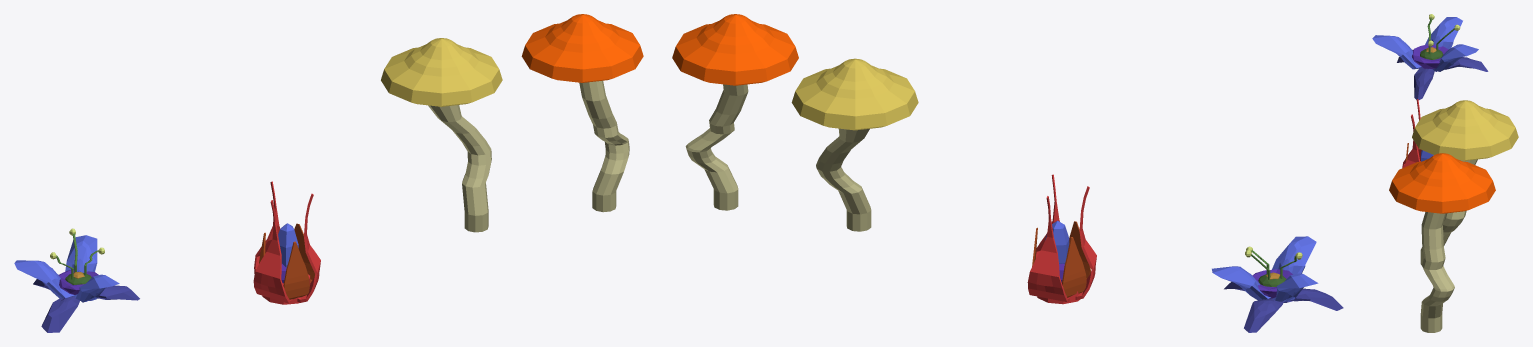
The model's file is flowers.fbx.
The picture shows the model from 3 angles, left to right: view 1: azimuth 30°, elevation 25°; view 2: azimuth 150°, elevation 25°; view 3: azimuth 270°, elevation 25°; orthographic projection. The views are drawn at different scales.
Parts seen in each view (by area): view 1: Mushroom, Mushroom 1, Flower 1, Flower 2; view 2: Mushroom, Mushroom 1, Flower 1, Flower 2; view 3: Mushroom, Mushroom 1, Flower 1, Flower 2.
Part boxes in pixels (bbox=[...]): Mushroom: bbox=[521, 14, 643, 212]; Mushroom 1: bbox=[381, 38, 502, 232]; Flower 1: bbox=[14, 228, 139, 332]; Flower 2: bbox=[253, 181, 320, 304]; Mushroom: bbox=[672, 14, 798, 210]; Mushroom 1: bbox=[791, 58, 918, 231]; Flower 1: bbox=[1212, 236, 1343, 332]; Flower 2: bbox=[1027, 174, 1096, 304]; Mushroom: bbox=[1389, 153, 1495, 332]; Mushroom 1: bbox=[1412, 100, 1518, 265]; Flower 1: bbox=[1372, 14, 1488, 99]; Flower 2: bbox=[1402, 99, 1433, 167].
Size of the model in its own units: 582 by 180 by 137.
